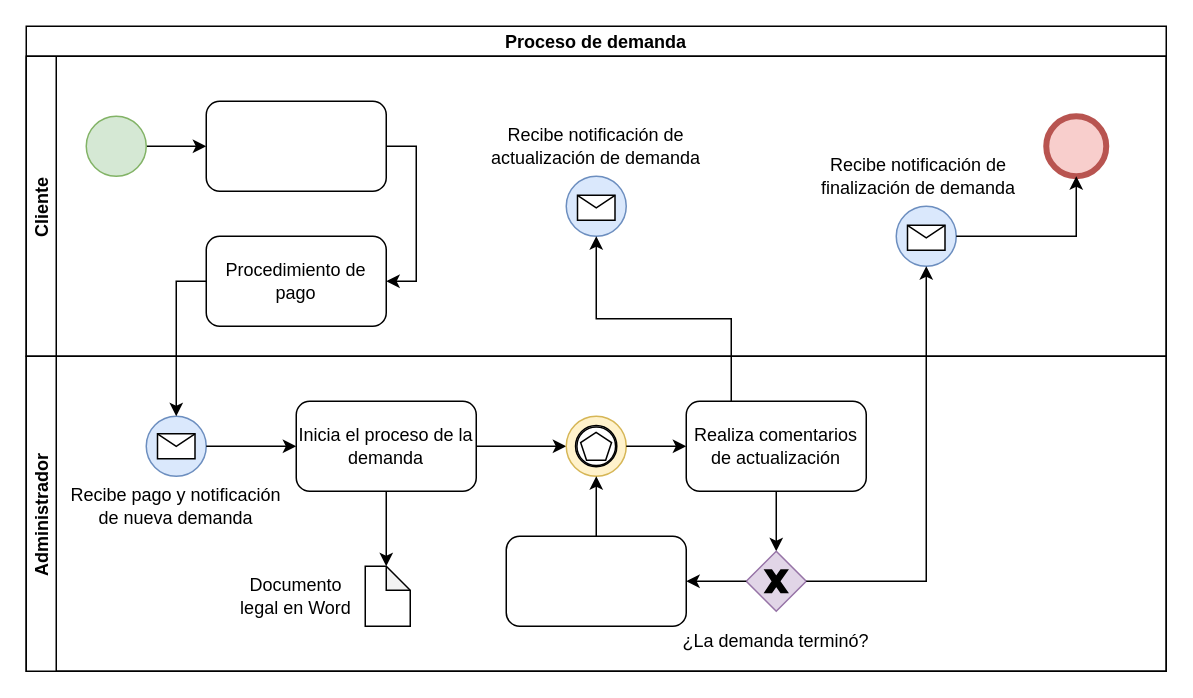
Some shapes in this 1193 by 698 pixel diagram are drawn without their labels. The centre of each missing label's shape, as x and y in pixels:
"Llenado del formulario de demanda" goes at pixel 295 145.
"Revisa actualizaciones" goes at pixel 595 580.
